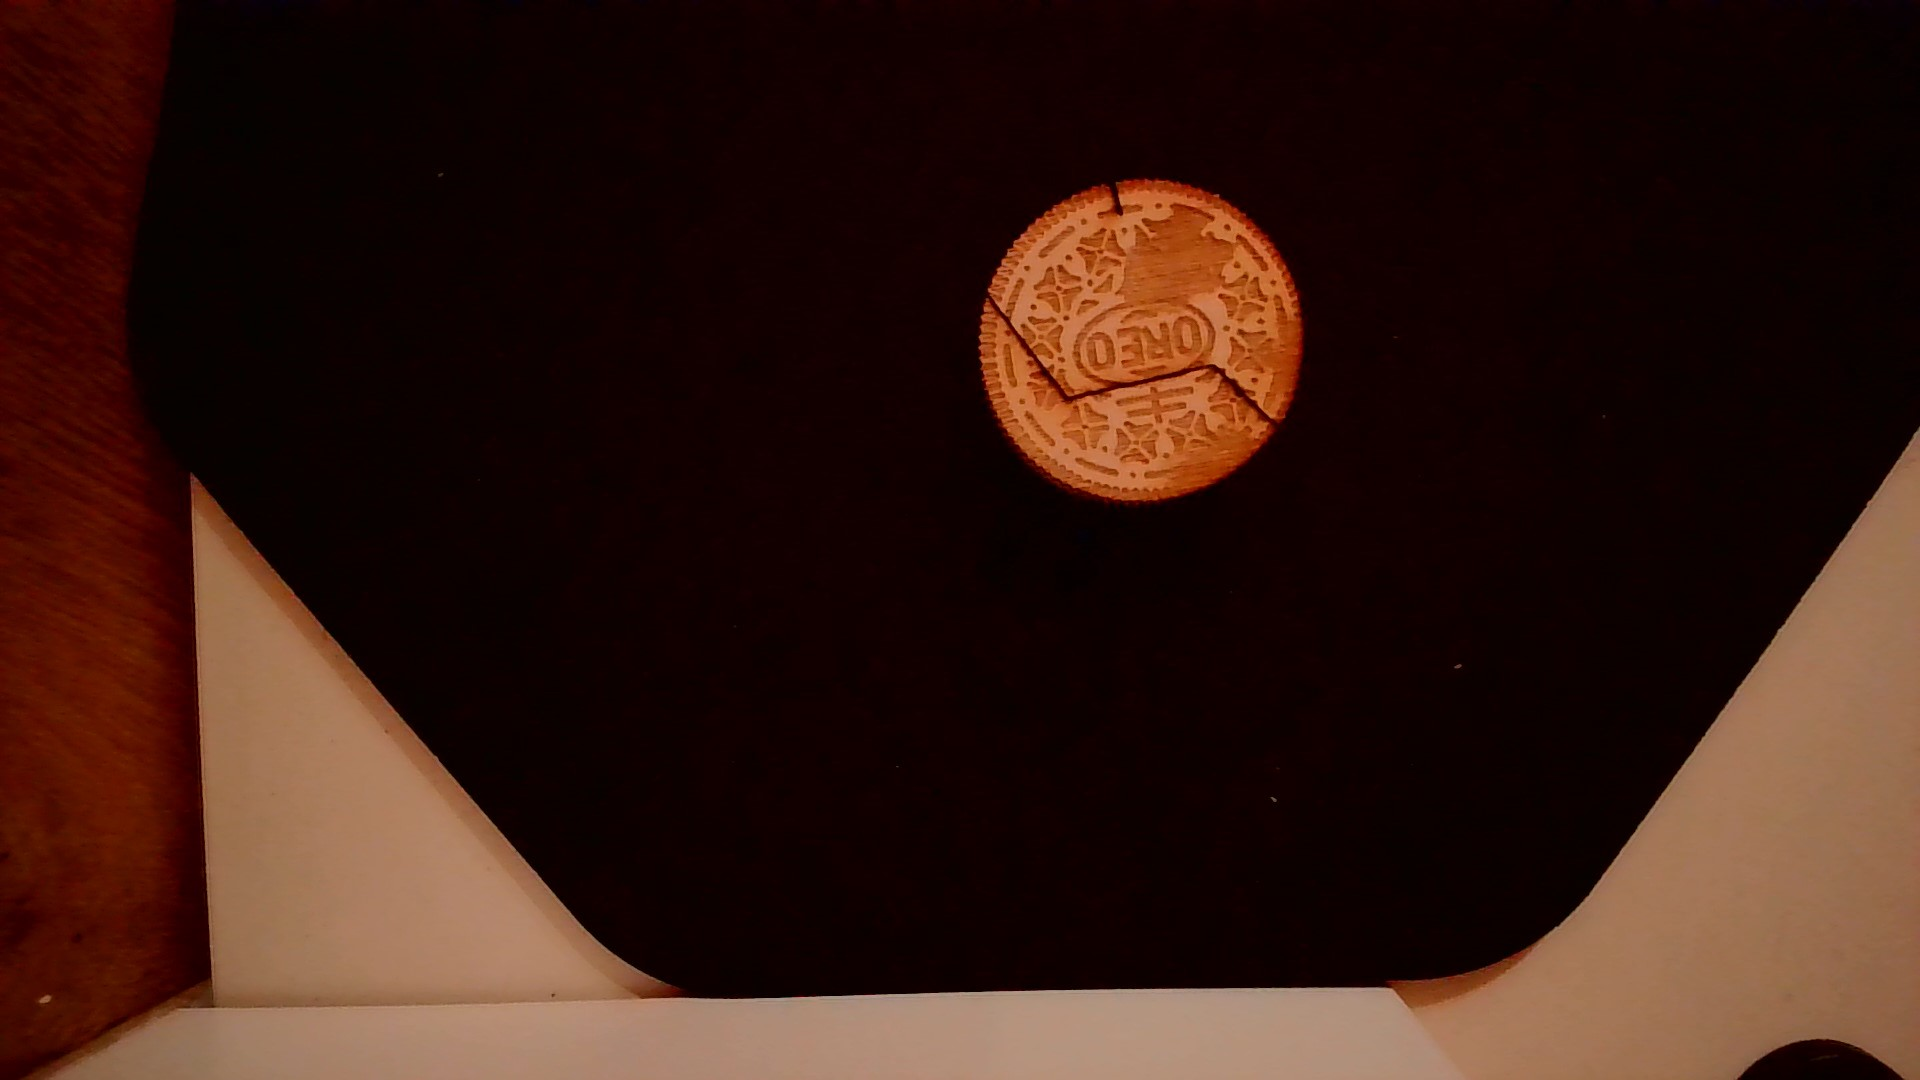Effacé: (1130, 208, 1216, 309), (1167, 419, 1249, 489), (1263, 324, 1294, 389)
Fissure: (976, 280, 1283, 433), (1098, 175, 1139, 219)
Oréo: (975, 171, 1308, 513)
